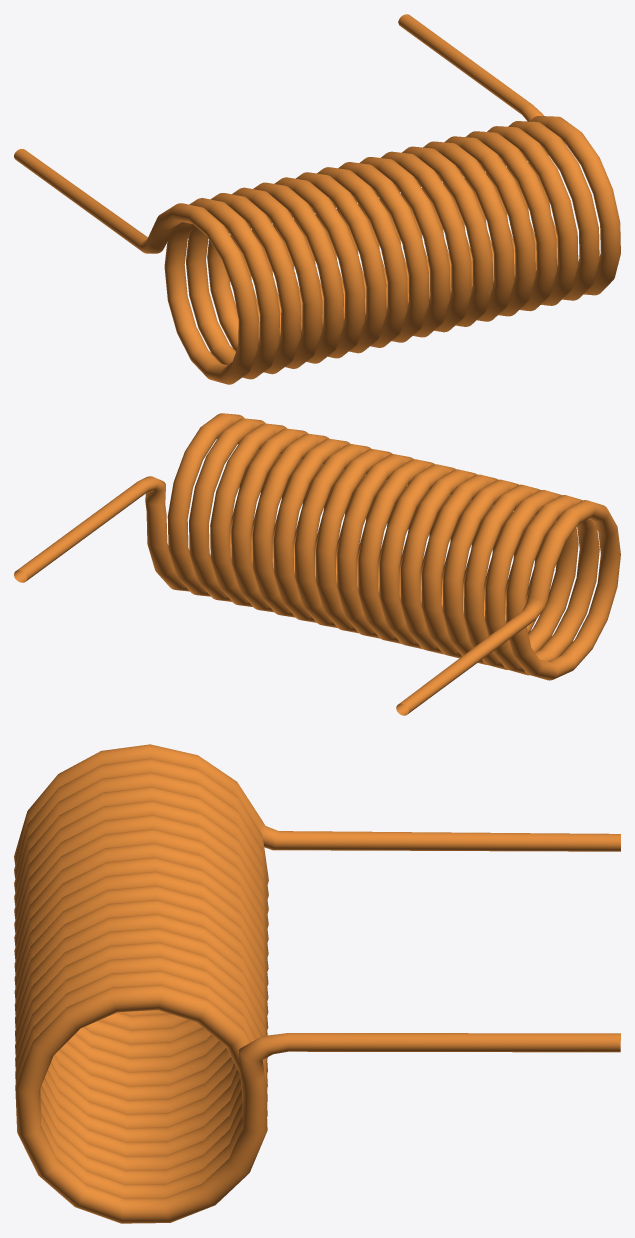
The model's file is Coil.glb.
The picture shows the model from 3 angles, top to bottom: view 1: azimuth 30°, elevation 25°; view 2: azimuth 150°, elevation 25°; view 3: azimuth 270°, elevation 25°; orthographic projection. The views are drawn at different scales.
Visible parts, largest first — view 1: Катушка; view 2: Катушка; view 3: Катушка.
Part boxes in pixels (x1,y1,x2,y2): Катушка: (14,14,620,384); Катушка: (14,413,620,715); Катушка: (14,744,620,1223).
Bounding box in the file's own units: 1.24 × 0.5012 × 1.19.
